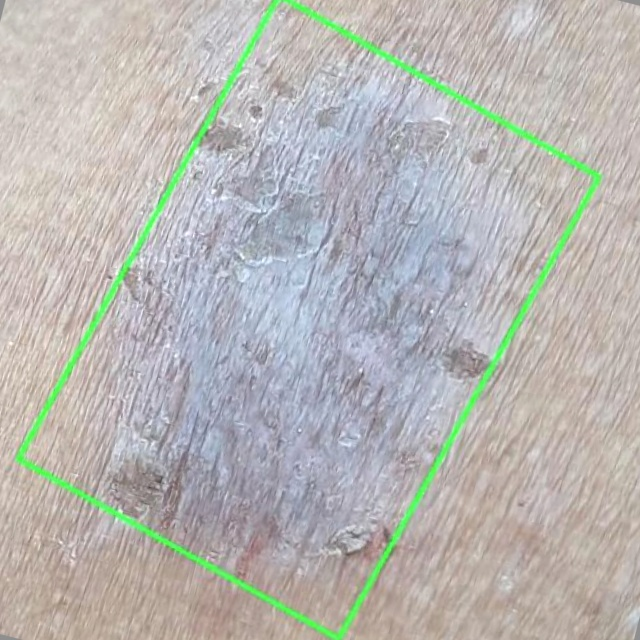Seborrheic Dermatitis: (19, 0, 600, 638)
